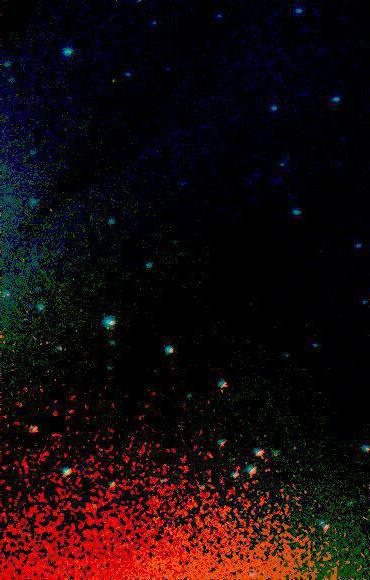star: (100, 66, 130, 96)
